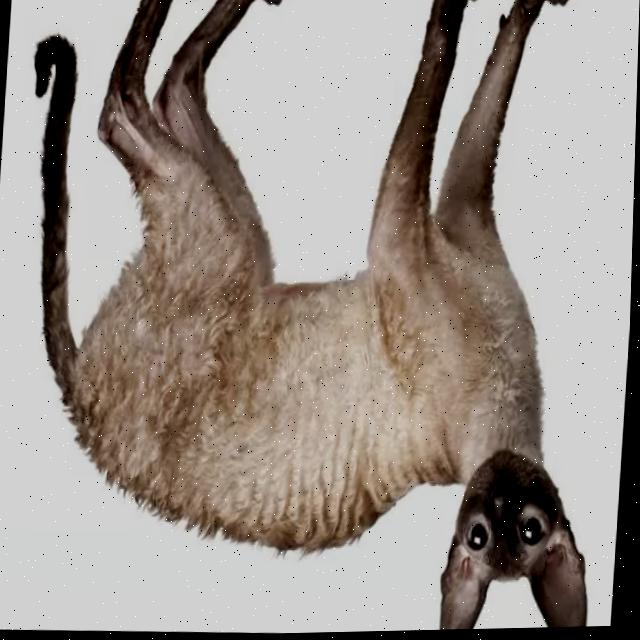Cornish Rex: (0, 0, 632, 640)
